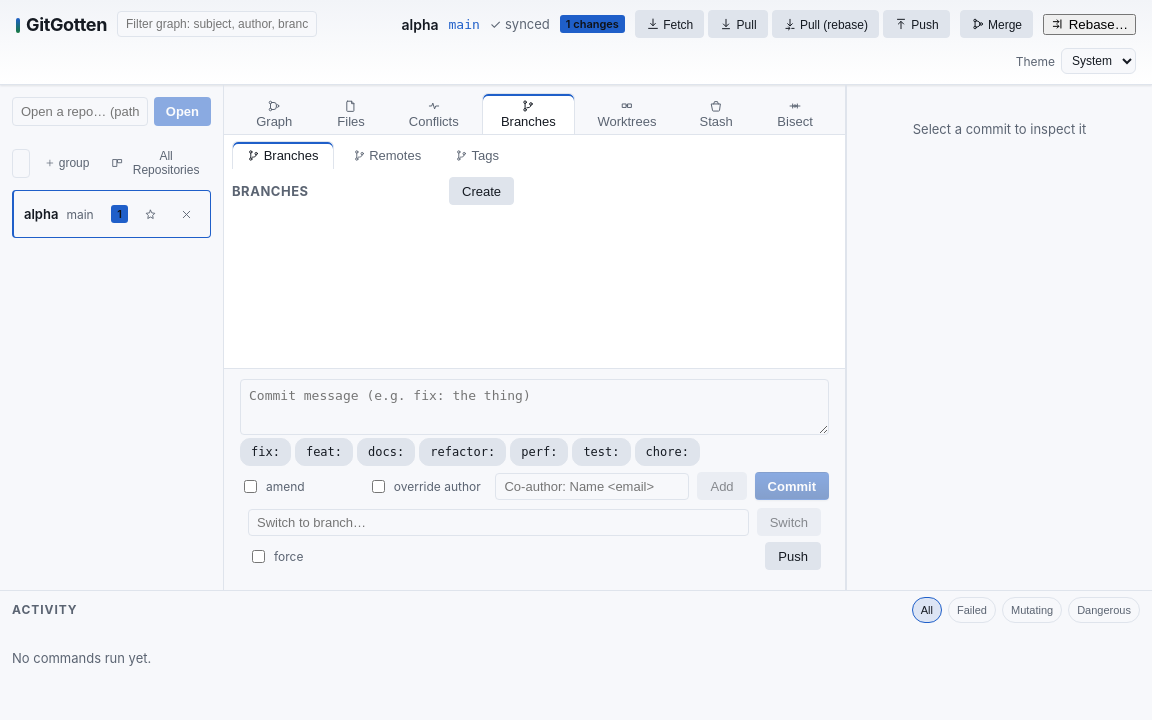
Test case: the dangerous preview keeps Run disabled until the confirm text matches
Click the button "Fetch" at (670, 24), box left=635, top=10, right=704, bottom=38
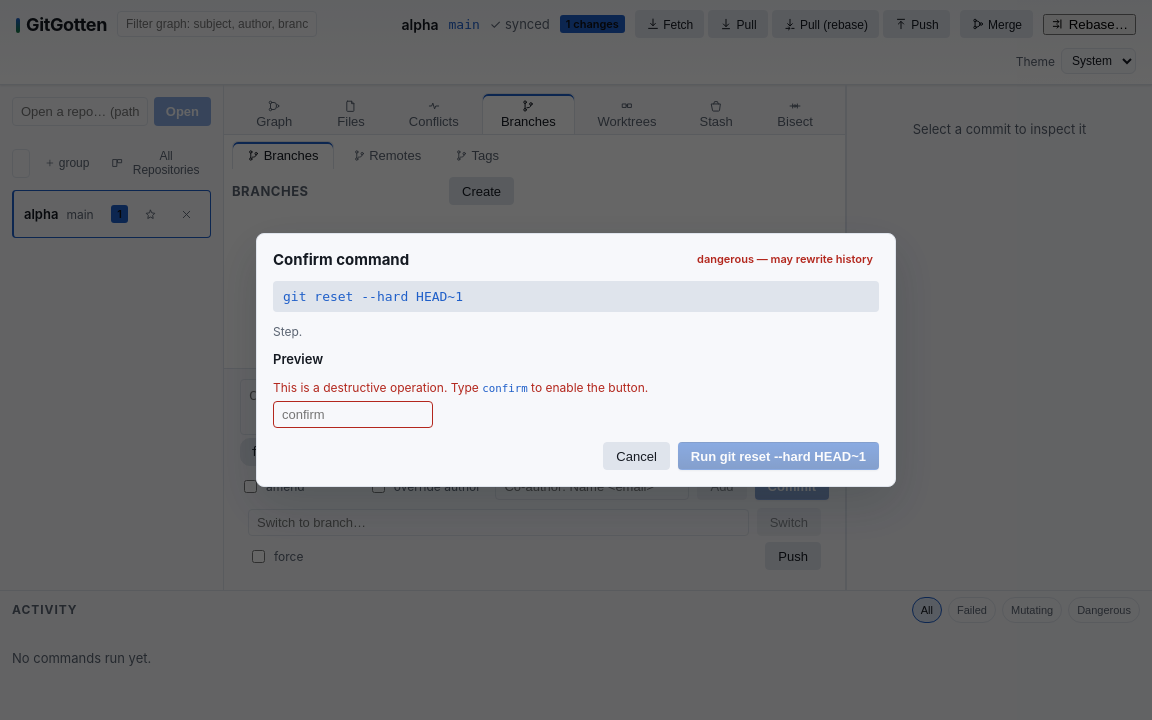
expect the button "Run git reset --hard HEAD~1" is disabled: met, box left=678, top=442, right=879, bottom=470
Type "confir" into the field at (353, 414), box left=273, top=401, right=433, bottom=428
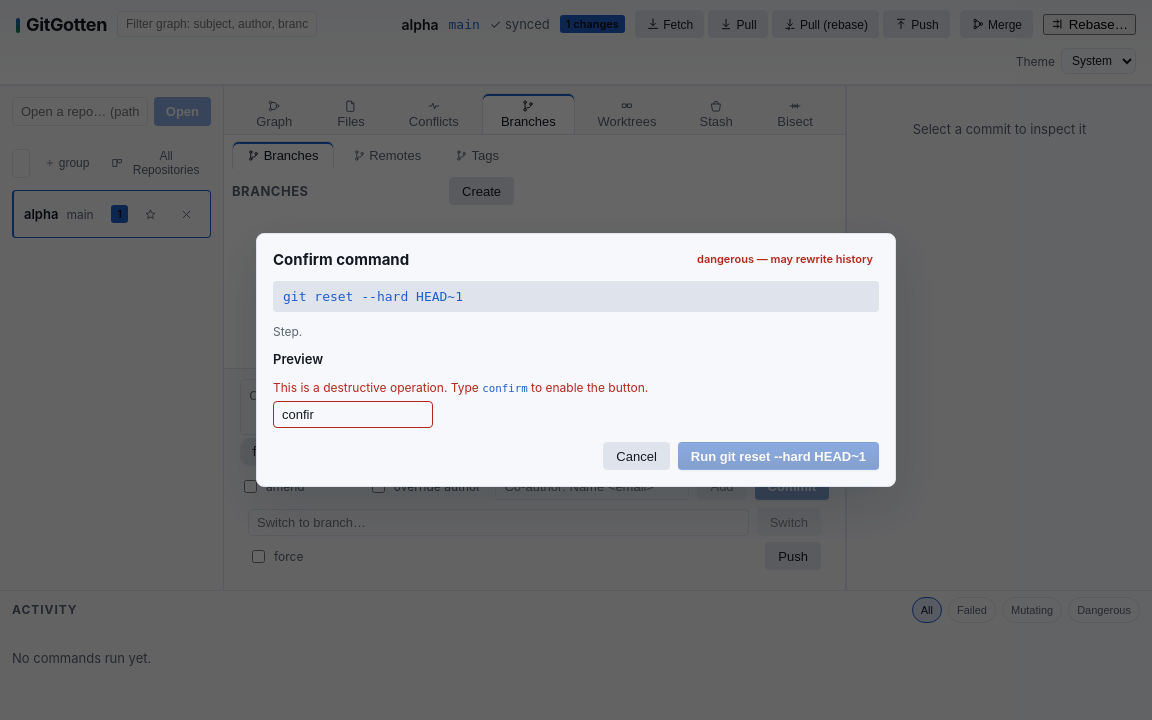
expect the button "Run git reset --hard HEAD~1" is disabled: met, box left=678, top=442, right=879, bottom=470
Replace the text in the field with "confirm" at (353, 414), box left=273, top=401, right=433, bottom=428
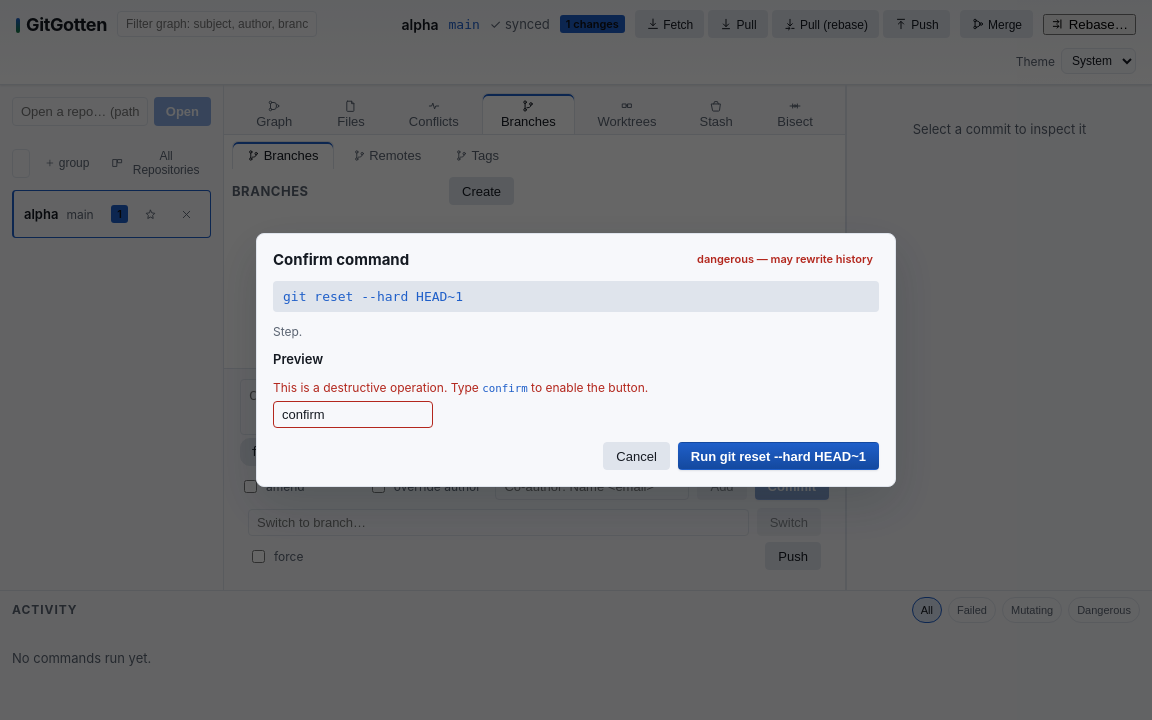
expect the button "Run git reset --hard HEAD~1" is enabled: met, box left=678, top=442, right=879, bottom=470
Escape while the gate is armed still only cancels: nothing ran.
Press Escape in the field, box left=273, top=401, right=433, bottom=428
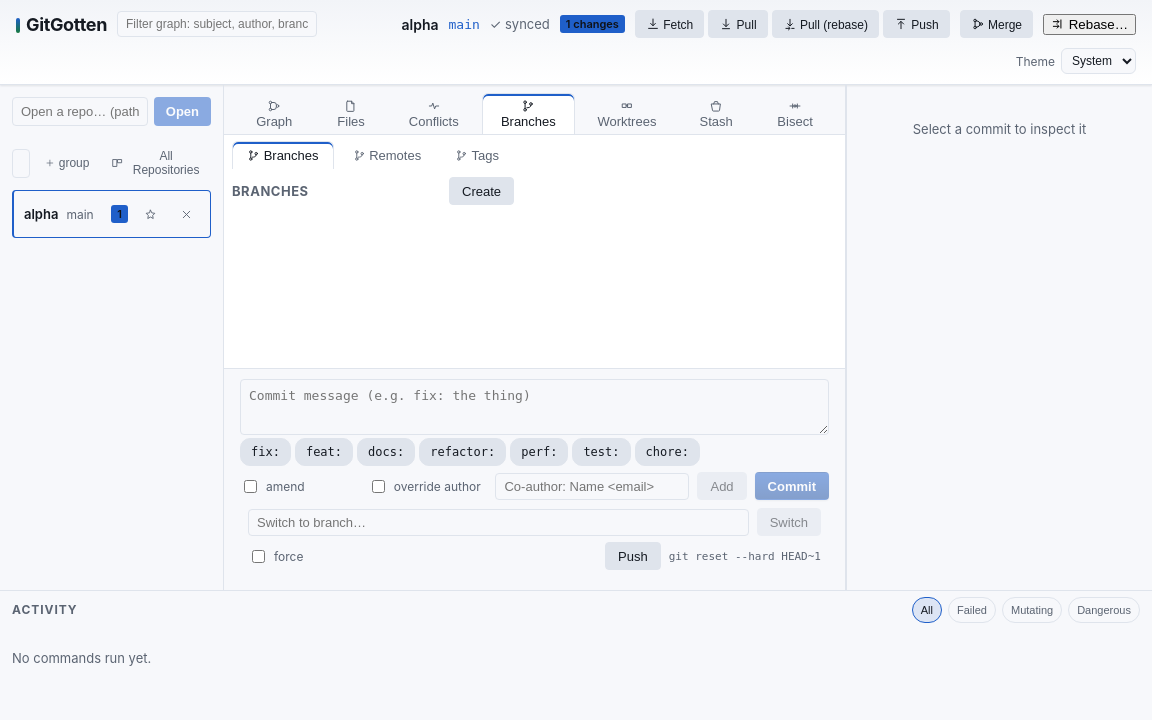
expect the dialog is gone: met
